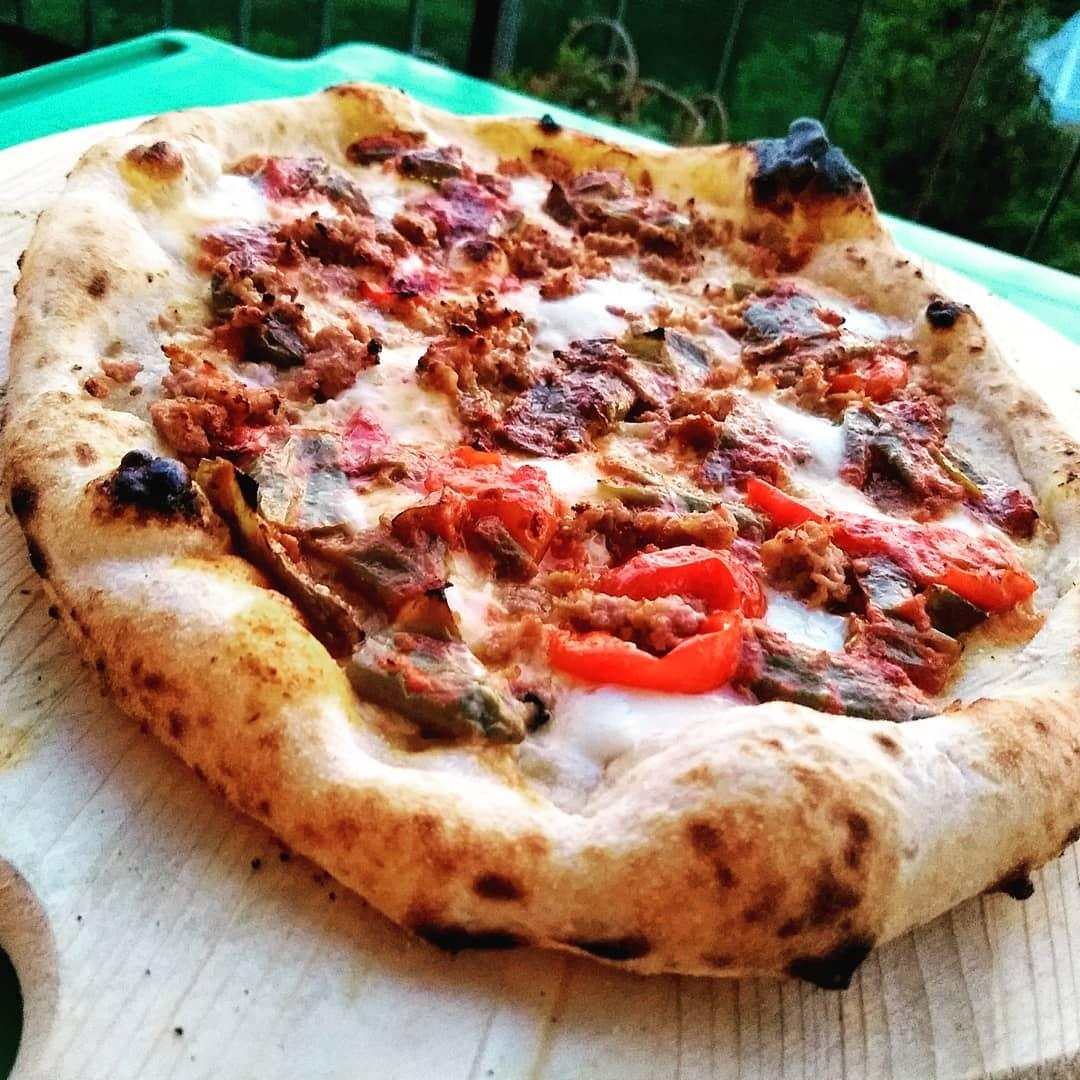Peppers: (410, 445, 560, 563), (540, 612, 743, 695), (883, 518, 1032, 602), (742, 463, 873, 555), (617, 543, 760, 613)
Pizza: (12, 100, 1080, 970)
